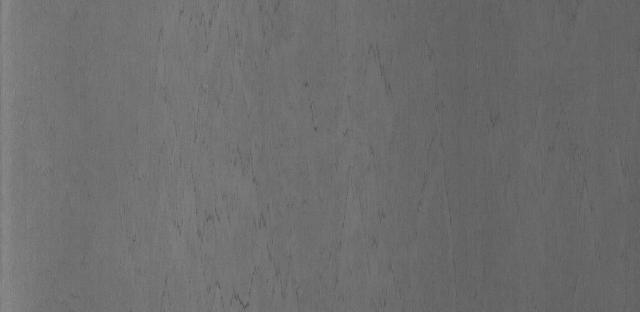silk_spot: (152, 0, 440, 298)
